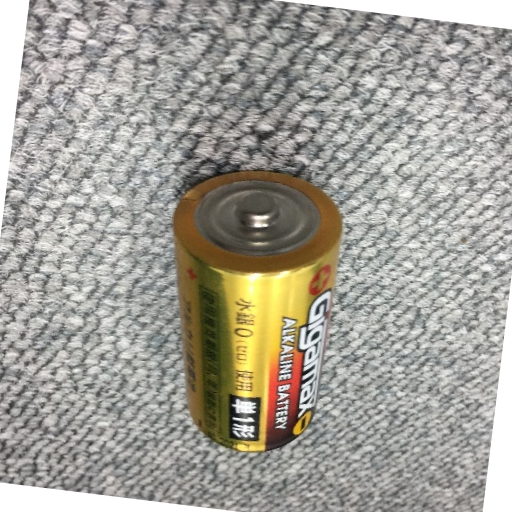Battery_0: (164, 156, 347, 453)
